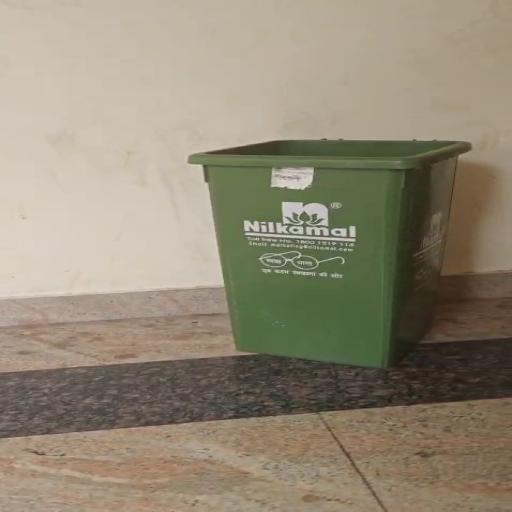Nilkamal-dustbin-detection: (190, 140, 470, 366)
